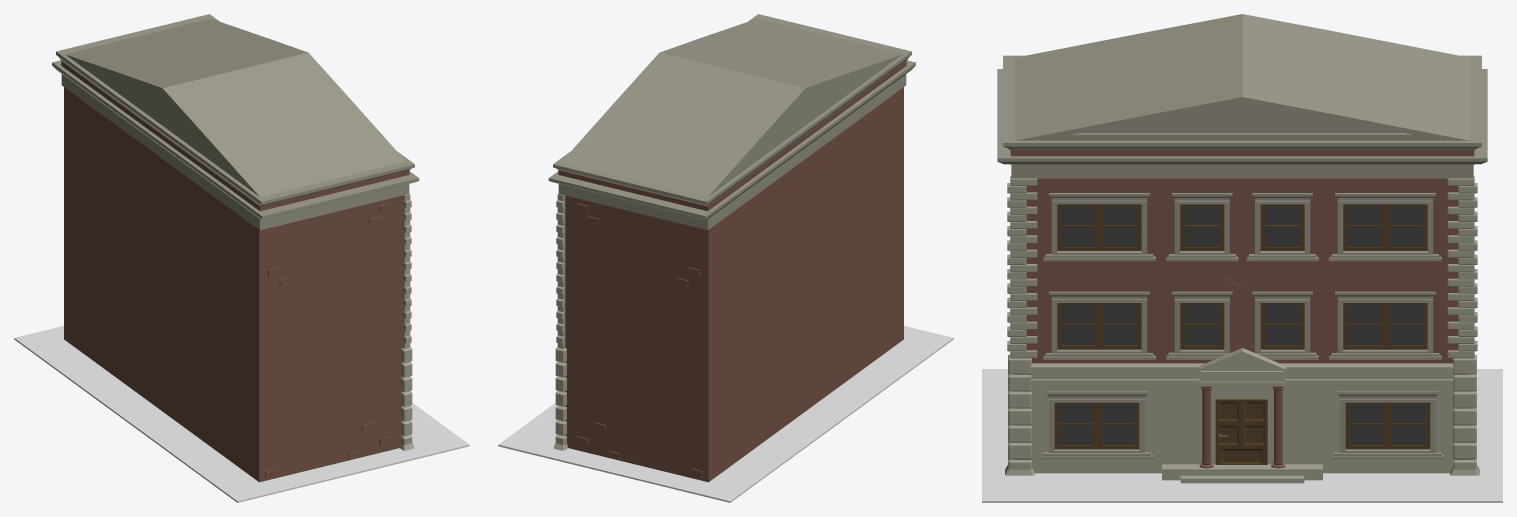
3 renders of one model, left to right at view 1: azimuth 30°, elevation 25°; view 2: azimuth 150°, elevation 25°; view 3: azimuth 270°, elevation 25°, orthographic. The views are drawn at different scales.
Visible parts, largest first — view 1: Building3_Big, Cube; view 2: Building3_Big, Cube; view 3: Building3_Big, Cube.
Part boxes in pixels (x1,y1,x2,y2): Building3_Big: [52, 14, 419, 482]; Cube: [14, 325, 469, 502]; Building3_Big: [548, 14, 915, 482]; Cube: [498, 325, 953, 502]; Building3_Big: [997, 14, 1487, 483]; Cube: [982, 369, 1502, 502].
Size of the model in its own units: 30 by 40.01 by 50.
